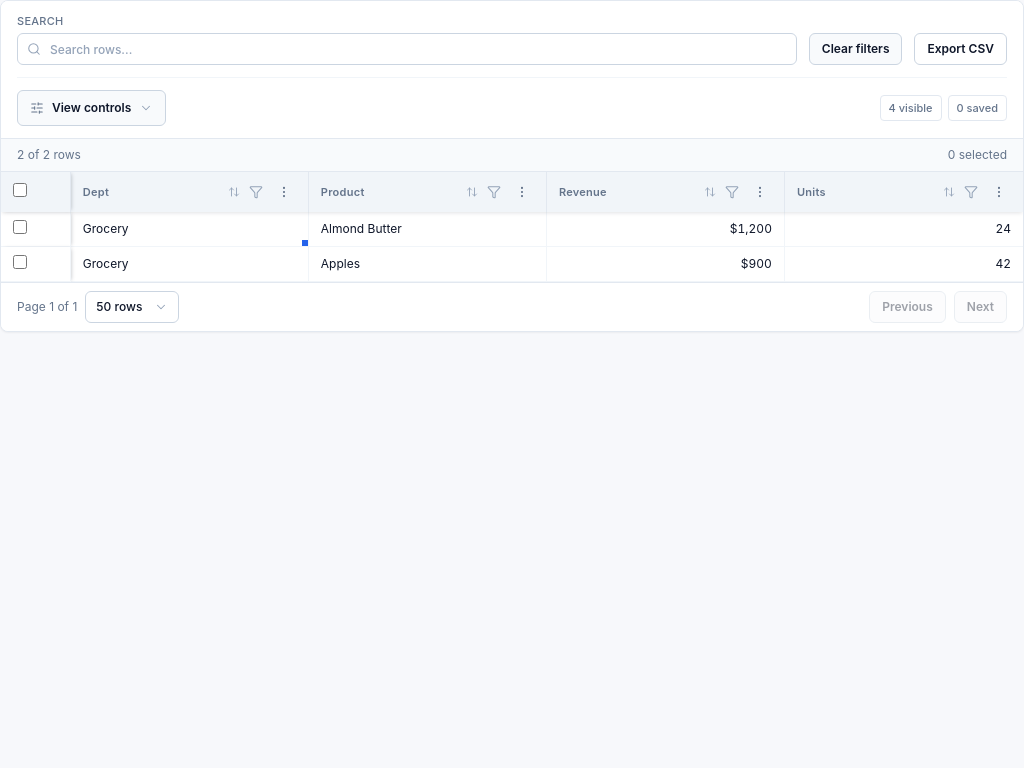
Scenario: DataGrid scoped localStorage persistence › relabels the save button to Update view when the name already exists
Step 1. Click the button "View controls" → (92, 108), box [17,90,166,126]
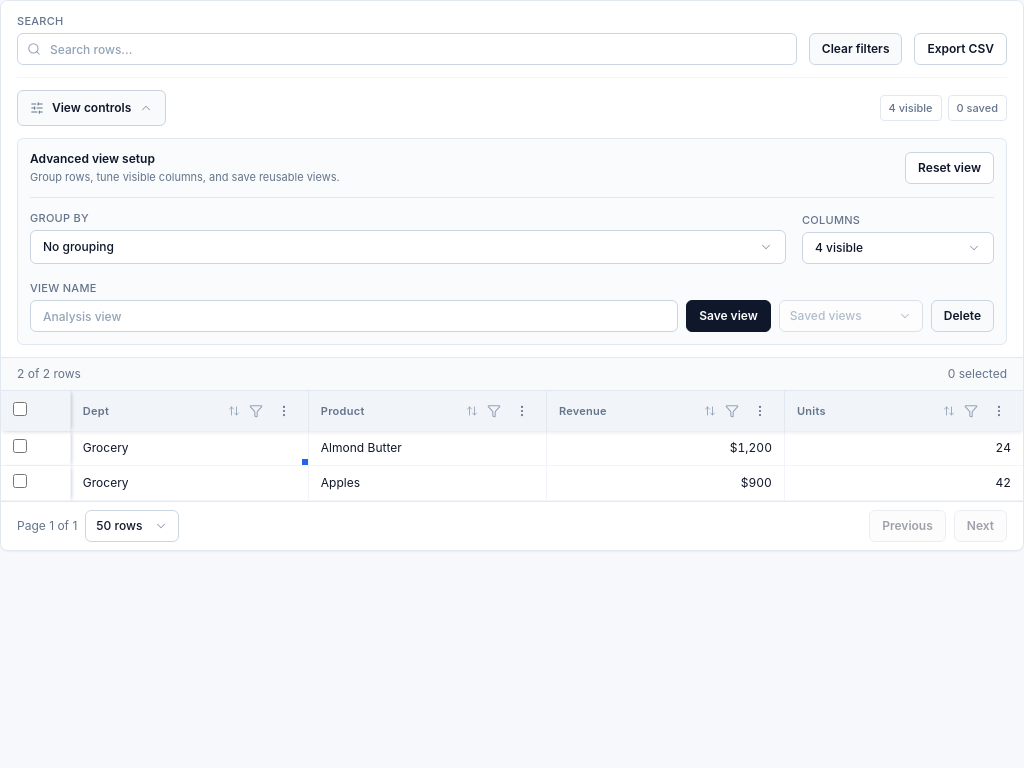
Step 2. Type "Weekly" into the field labelled "View name" → (354, 316), box [30,300,678,332]
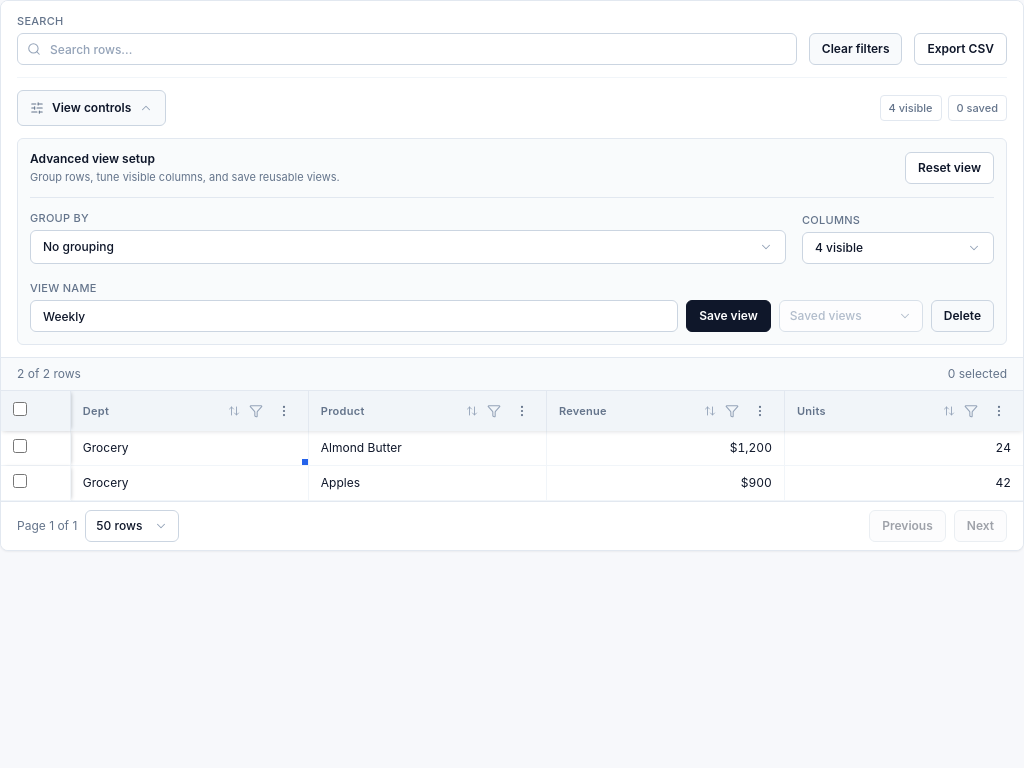
Step 3. Click the button "Save view" → (728, 316), box [686,300,771,332]
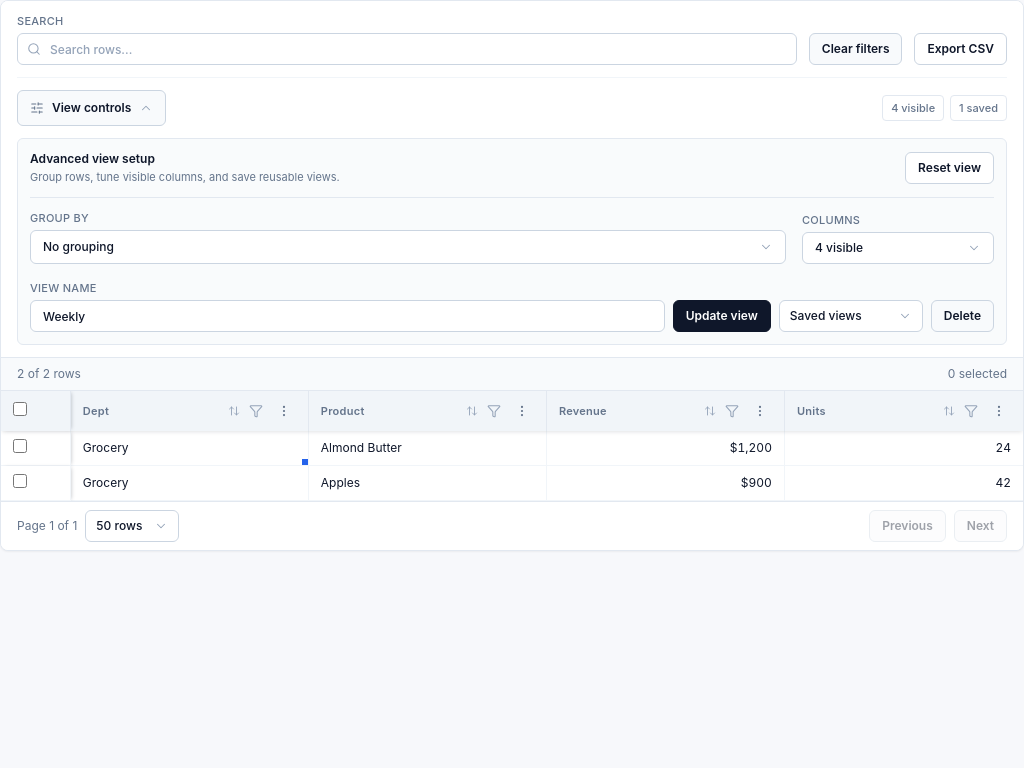
Step 4. Clear the field labelled "View name" → (347, 316), box [30,300,665,332]
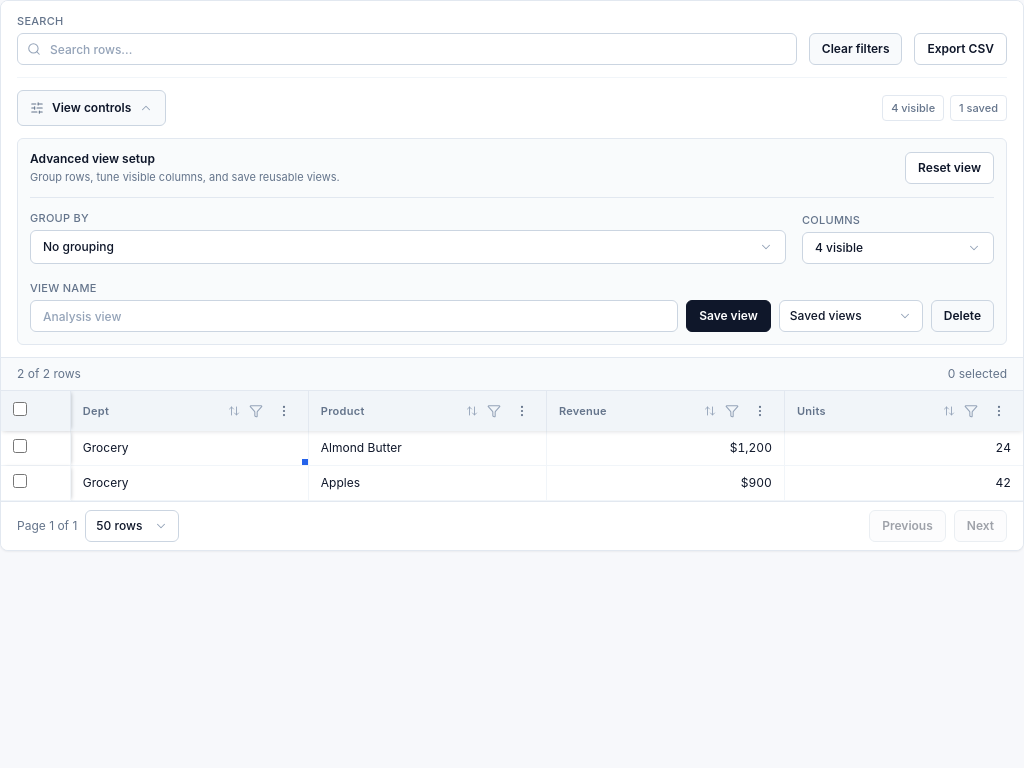
Expected: the button "Save view" is shown, [686,300,771,332]
Step 5. Type "Weekly" into the field labelled "View name" → (354, 316), box [30,300,678,332]
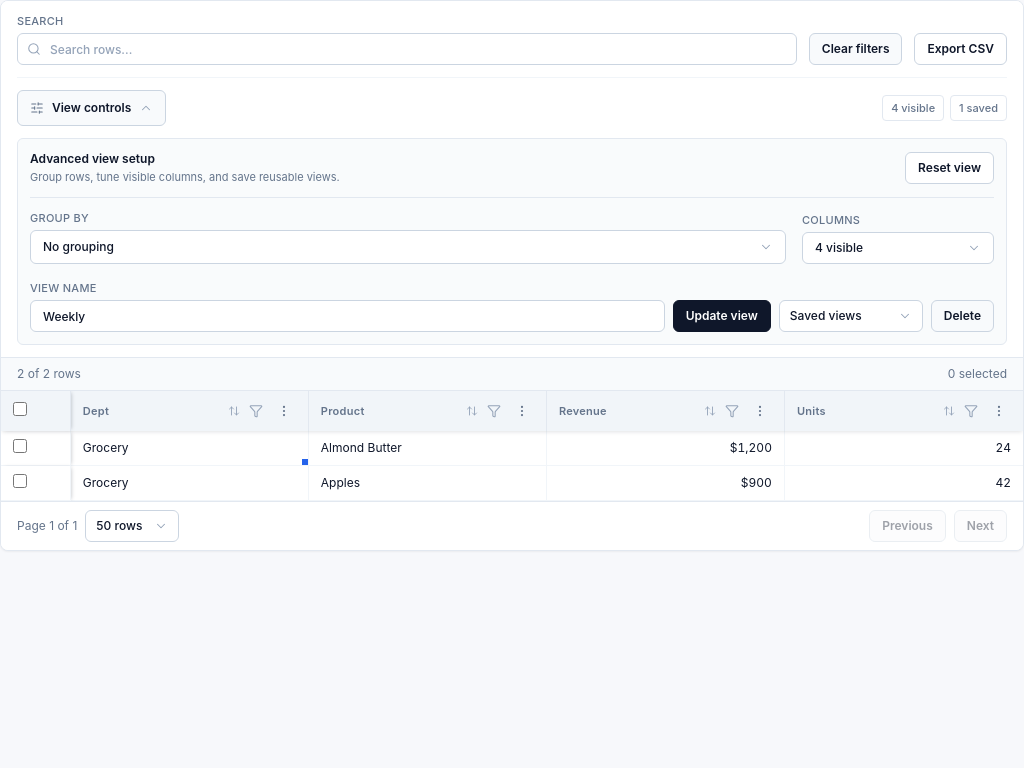
Expected: the button "Update view" is shown, [673,300,771,332]
Expected: the button "Save view" is gone
